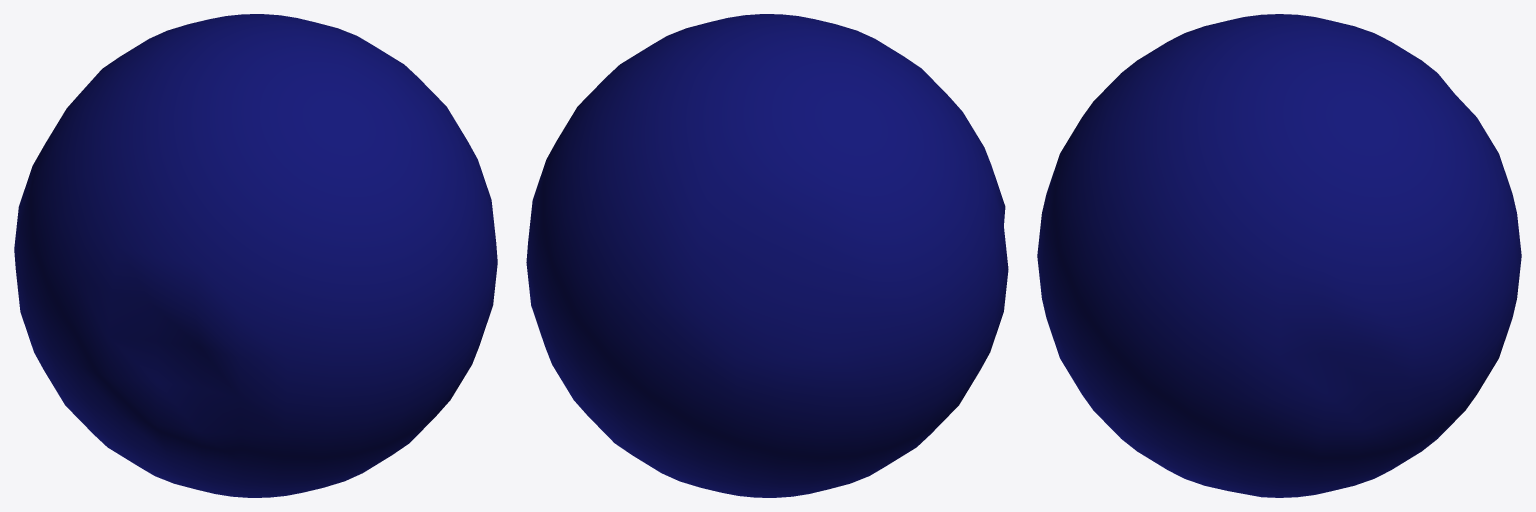
File: ball_textured_mesh.FBX
The picture shows the model from 3 angles, left to right: view 1: azimuth 30°, elevation 25°; view 2: azimuth 150°, elevation 25°; view 3: azimuth 270°, elevation 25°; orthographic projection.
Visible parts, largest first — view 1: Sphere001; view 2: Sphere001; view 3: Sphere001.
Part boxes in pixels (<box>): Sphere001: <box>14,14,497,497</box>; Sphere001: <box>526,14,1008,497</box>; Sphere001: <box>1037,14,1521,497</box>.
Size of the model in its own units: 18.85 by 18.66 by 18.85.
